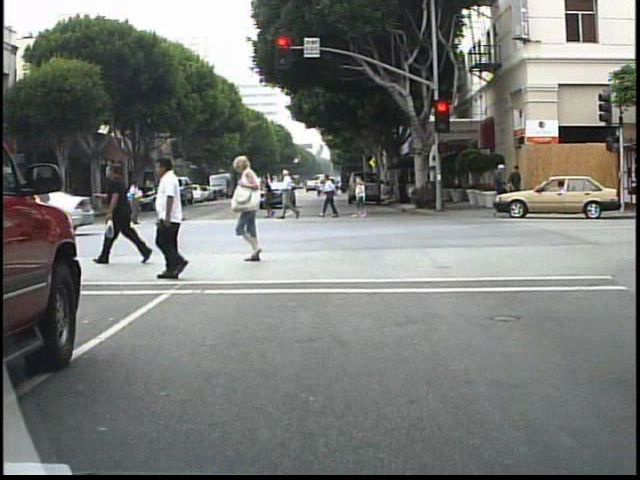person: (146, 157, 206, 284), (228, 158, 287, 268), (105, 157, 156, 273), (280, 167, 304, 224), (164, 173, 186, 231), (321, 172, 343, 225), (258, 173, 281, 223), (124, 175, 144, 225), (4, 187, 23, 236), (507, 162, 524, 209), (11, 197, 30, 237), (489, 160, 507, 195)
